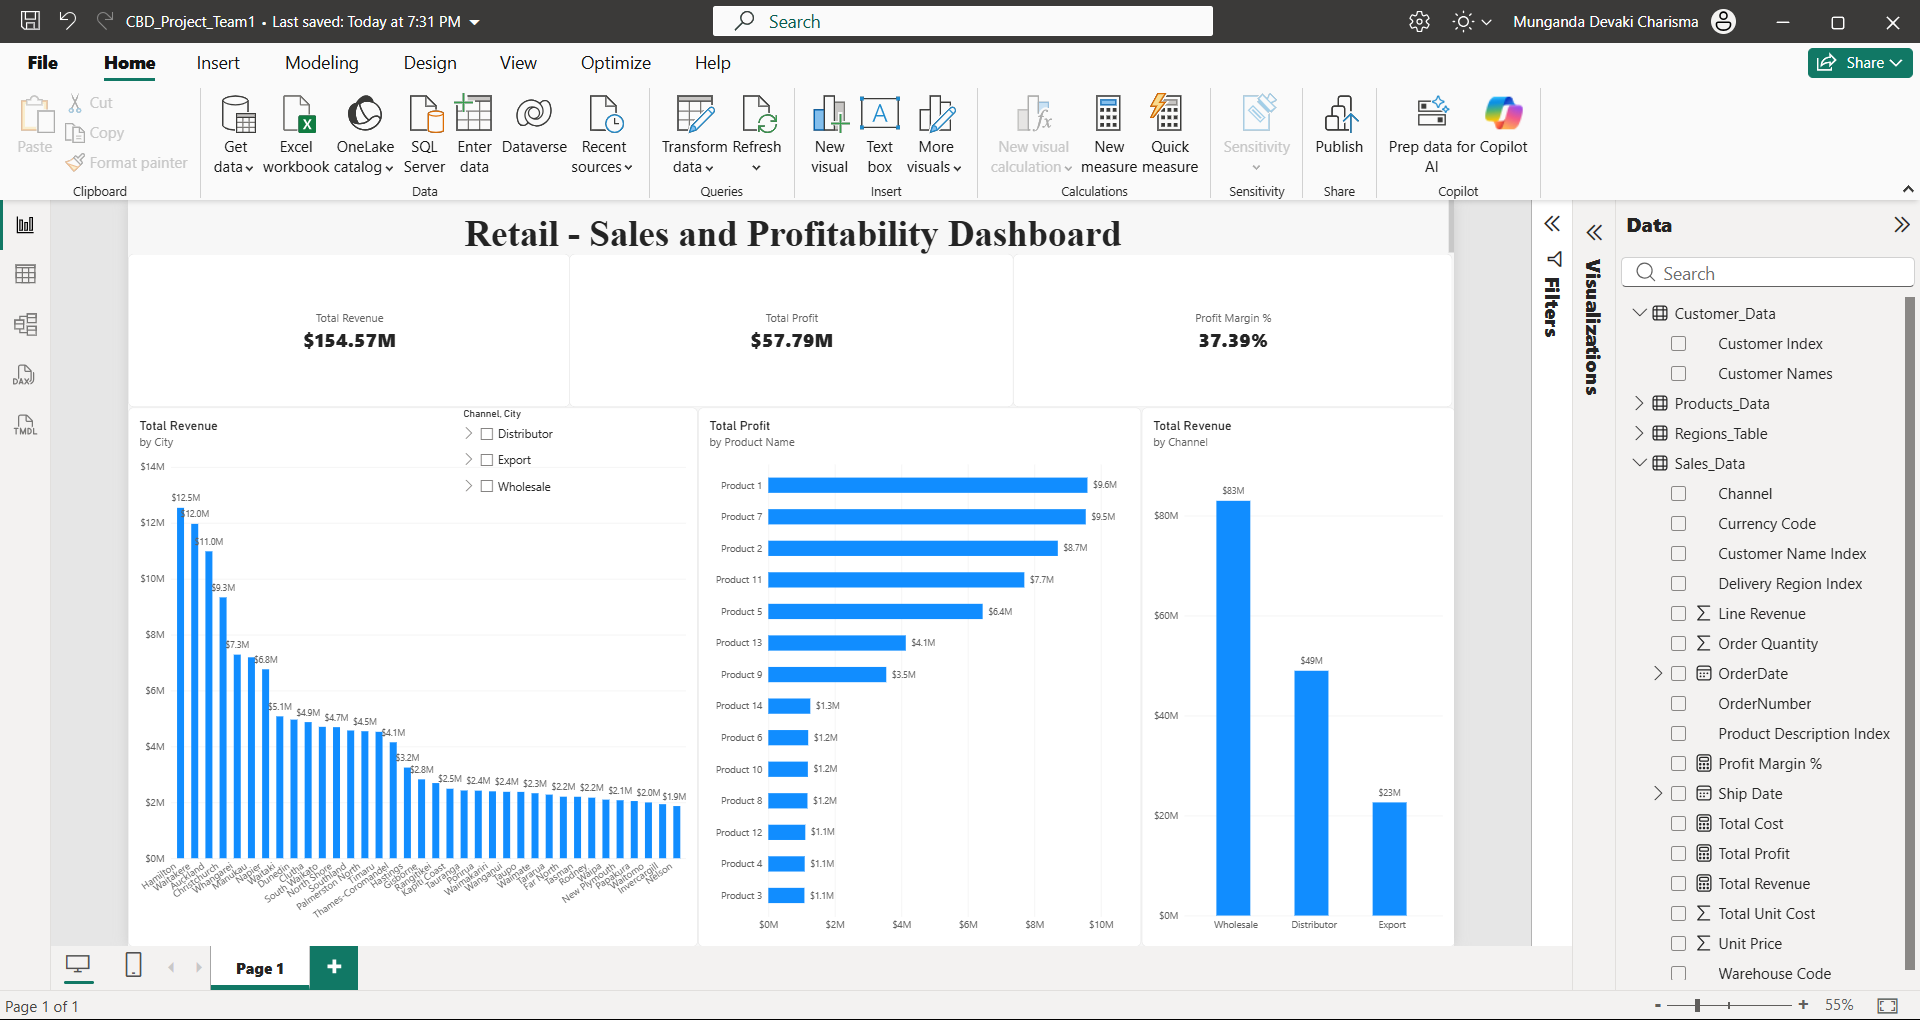

This screenshot's page, from the dashboard's own definition file:
{"tool":"powerbi","page":{"name":"Page 1","canvas":[1920,1080],"ordinal":0},"visuals":[{"type":"cardVisual","fields":{"Data":["Sales_Data.Total Revenue"]},"box":[0,77.7,640.1,222],"z":0},{"type":"cardVisual","fields":{"Data":["Sales_Data.Total Profit"]},"box":[638.3,77.7,643.8,222],"z":1000},{"type":"cardVisual","fields":{"Data":["Sales_Data.Profit Margin %"]},"box":[1282.1,77.7,636.4,222],"z":2000},{"type":"clusteredColumnChart","fields":{"Category":["Regions_Table.City"],"Y":["Sales_Data.Total Revenue"]},"box":[0,299.7,825.1,780.7],"z":3000},{"type":"clusteredBarChart","fields":{"Category":["Products_Data.Product Name"],"Y":["Sales_Data.Total Profit"]},"box":[825.1,299.7,642,780.7],"z":4000},{"type":"clusteredColumnChart","fields":{"Category":["Sales_Data.Channel"],"Y":["Sales_Data.Total Revenue"]},"box":[1467.1,299.7,453.3,780.7],"z":5000},{"type":"slicer","fields":{"Values":["Sales_Data.Channel","Regions_Table.City"]},"box":[477.3,299.7,347.8,236.8],"z":5001},{"type":"textbox","box":[0,0,1920.4,77.7],"z":5002}]}

Visuals, with their boxes on the page's 1920x1080 design canvas (x1, y1, x2, y2). These are canvas units, not pixel positions in the 1920x1020 screenshot, which may show the page scaled, cropped or inside an application window:
cardVisual - Sales_Data.Total Revenue: BBox(0, 78, 640, 300)
cardVisual - Sales_Data.Total Profit: BBox(638, 78, 1282, 300)
cardVisual - Sales_Data.Profit Margin %: BBox(1282, 78, 1918, 300)
clusteredColumnChart - Regions_Table.City x Sales_Data.Total Revenue: BBox(0, 300, 825, 1080)
clusteredBarChart - Products_Data.Product Name x Sales_Data.Total Profit: BBox(825, 300, 1467, 1080)
clusteredColumnChart - Sales_Data.Channel x Sales_Data.Total Revenue: BBox(1467, 300, 1920, 1080)
slicer - Sales_Data.Channel x Regions_Table.City: BBox(477, 300, 825, 536)
textbox: BBox(0, 0, 1920, 78)
